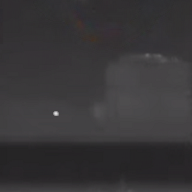Target: (53, 110, 60, 117)
